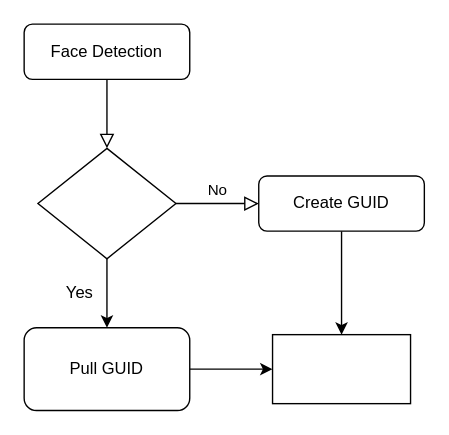
The diagram is 449 pixels wide and 435 high, and some of its shapes have lost their labels. The shapes that lost their labels are listed below. From the top down, each one's box as (x1, y1, x2, y2) in pixels, then its label:
(37, 147, 176, 259): Not in Local DB
(271, 333, 411, 404): Notify GUID + Image
